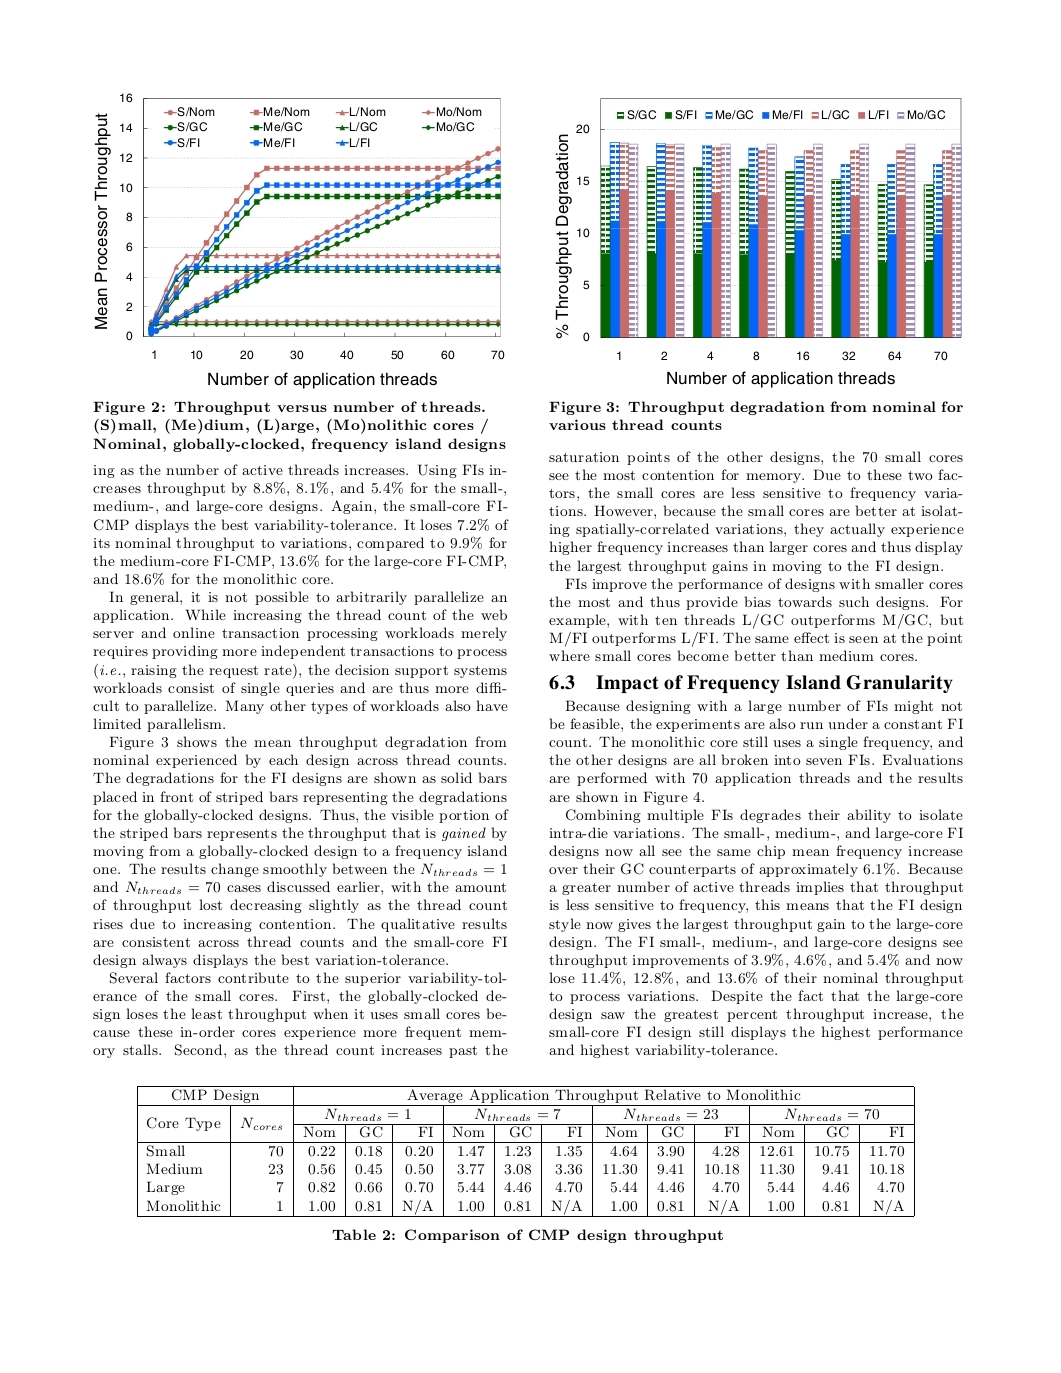Table: (137, 1085, 914, 1217)
figure: (94, 92, 504, 388), (555, 98, 961, 387)
